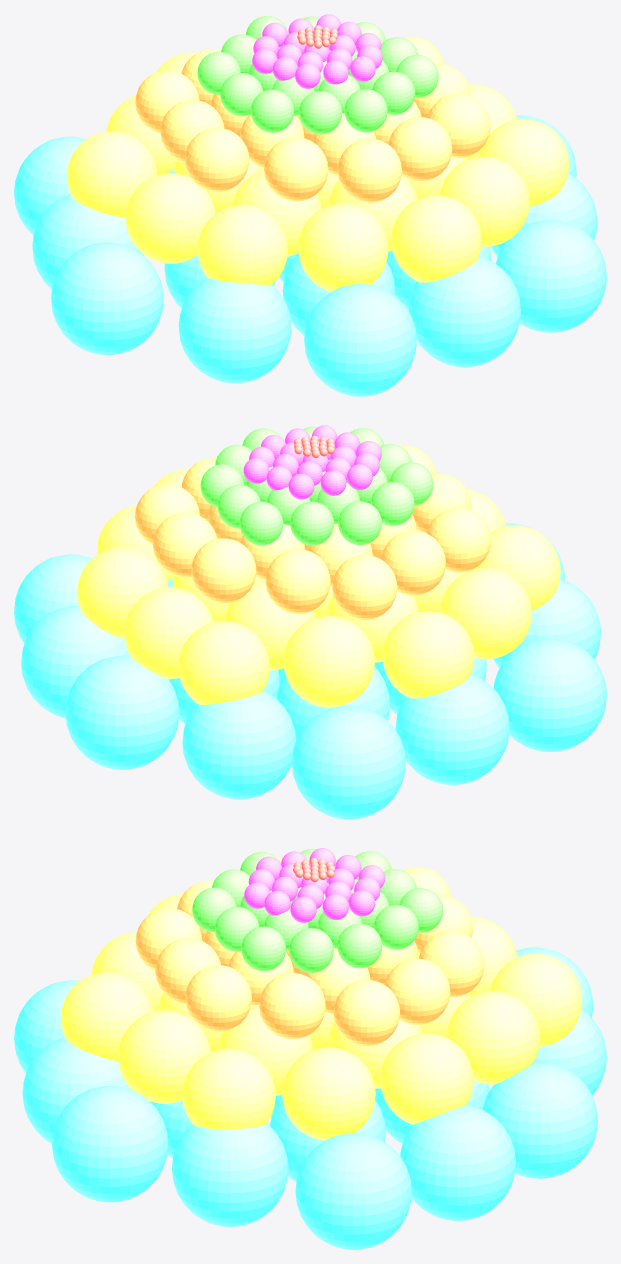
Rendered from rainbowdust.fbx.
3 renders of one model, top to bottom at view 1: azimuth 30°, elevation 25°; view 2: azimuth 150°, elevation 25°; view 3: azimuth 270°, elevation 25°, orthographic. The views are drawn at different scales.
Visible parts, largest first — view 1: Sphere, Sphere.001, Sphere.002, Sphere.003, Sphere.004, Sphere.005; view 2: Sphere, Sphere.001, Sphere.002, Sphere.003, Sphere.004, Sphere.005; view 3: Sphere, Sphere.001, Sphere.002, Sphere.003, Sphere.004, Sphere.005.
Boxes of the visible parts, bbox=[...] form: Sphere: bbox=[14, 115, 606, 396]; Sphere.001: bbox=[67, 52, 568, 291]; Sphere.002: bbox=[135, 36, 490, 202]; Sphere.003: bbox=[197, 16, 438, 134]; Sphere.004: bbox=[252, 14, 382, 88]; Sphere.005: bbox=[297, 25, 337, 48]; Sphere: bbox=[14, 523, 606, 819]; Sphere.001: bbox=[77, 468, 560, 707]; Sphere.002: bbox=[135, 445, 491, 619]; Sphere.003: bbox=[200, 426, 433, 545]; Sphere.004: bbox=[243, 425, 381, 499]; Sphere.005: bbox=[294, 435, 334, 458]; Sphere: bbox=[14, 947, 606, 1249]; Sphere.001: bbox=[60, 893, 582, 1140]; Sphere.002: bbox=[135, 856, 484, 1046]; Sphere.003: bbox=[192, 848, 443, 972]; Sphere.004: bbox=[244, 848, 385, 922]; Sphere.005: bbox=[293, 858, 335, 882].
Bounding box in the file's own units: 9.29 × 4.23 × 8.53.
